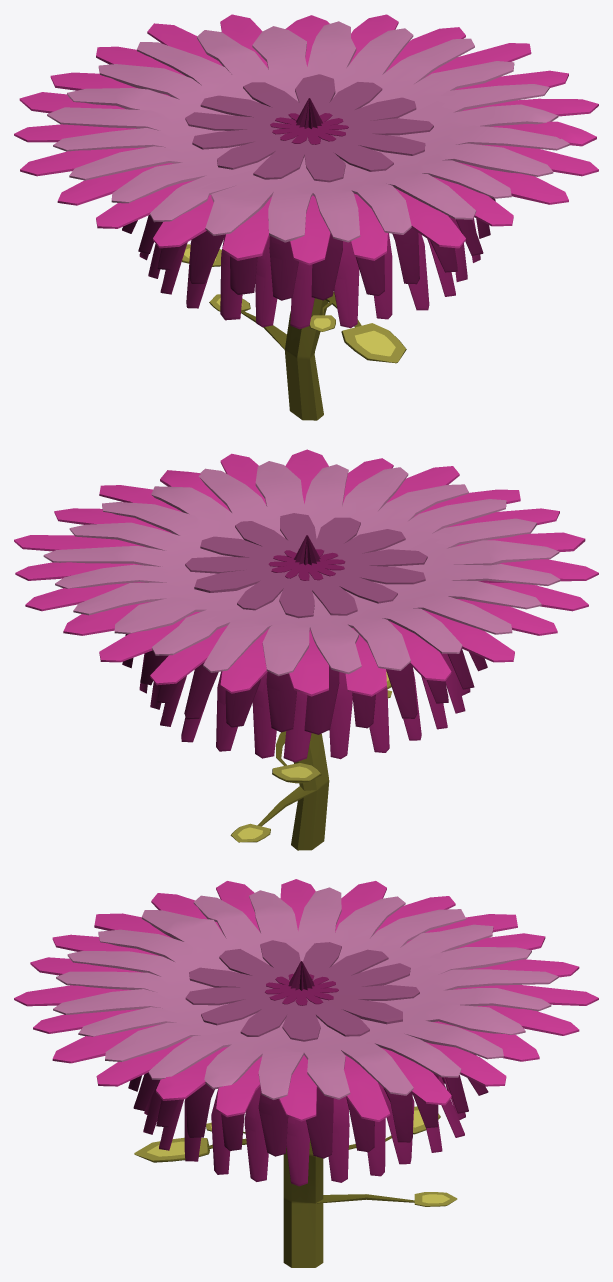
The model's file is Planta Aberta_4H.fbx.
The picture shows the model from 3 angles, top to bottom: view 1: azimuth 30°, elevation 25°; view 2: azimuth 150°, elevation 25°; view 3: azimuth 270°, elevation 25°; orthographic projection. The views are drawn at different scales.
Visible parts, largest first — view 1: pCylinder2, pCylinder1, pCylinder3, pCylinder6, pCylinder5, pCube4, pCube5, pCylinder4; view 2: pCylinder2, pCylinder1, pCylinder3, pCylinder6, pCylinder5, pCube4, pCylinder4, pCube8, pCube7; view 3: pCylinder2, pCylinder1, pCylinder3, pCylinder6, pCylinder5, pCube4, pCylinder4, pCube5, pCube7.
Part boxes in pixels (left/top/right/bottom): pCylinder2: left=47, top=21, right=569, bottom=242; pCylinder1: left=14, top=14, right=598, bottom=265; pCylinder3: left=185, top=74, right=433, bottom=182; pCylinder6: left=139, top=217, right=480, bottom=329; pCylinder5: left=122, top=197, right=495, bottom=300; pCube4: left=241, top=292, right=361, bottom=420; pCube5: left=341, top=323, right=406, bottom=363; pCylinder4: left=270, top=113, right=348, bottom=144; pCylinder2: left=43, top=461, right=560, bottom=676; pCylinder1: left=14, top=449, right=598, bottom=696; pCylinder3: left=185, top=513, right=427, bottom=618; pCylinder6: left=139, top=652, right=470, bottom=762; pCylinder5: left=122, top=634, right=487, bottom=734; pCube4: left=257, top=731, right=329, bottom=850; pCylinder4: left=268, top=549, right=345, bottom=580; pCube8: left=272, top=763, right=321, bottom=783; pCube7: left=230, top=823, right=270, bottom=842; pCylinder2: left=53, top=887, right=558, bottom=1099; pCylinder1: left=14, top=879, right=598, bottom=1121; pCylinder3: left=185, top=940, right=419, bottom=1041; pCylinder6: left=143, top=1076, right=465, bottom=1186; pCylinder5: left=128, top=1054, right=488, bottom=1158; pCube4: left=207, top=1131, right=414, bottom=1267; pCylinder4: left=265, top=973, right=338, bottom=1005; pCube5: left=134, top=1137, right=209, bottom=1162; pCube7: left=414, top=1192, right=457, bottom=1206.
Size of the model in its own units: 782 by 457 by 801.
